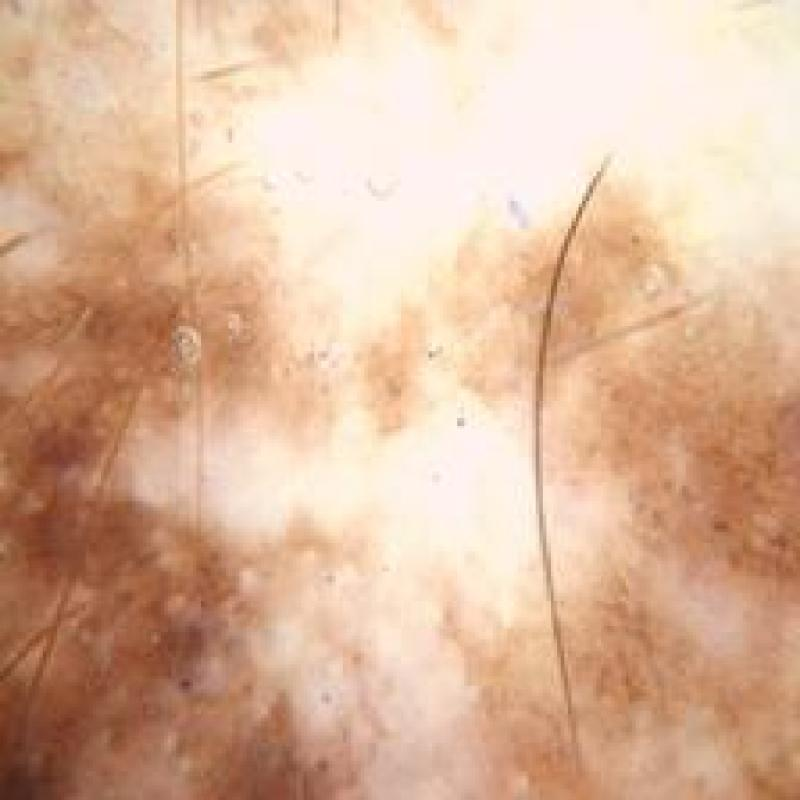malignant: (3, 39, 800, 799)
